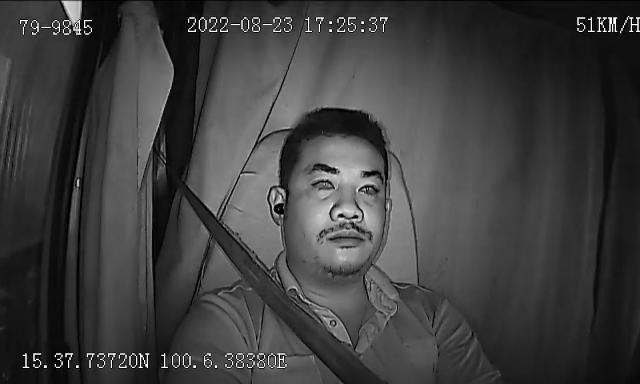SafeDriving: (352, 174, 387, 203), (307, 168, 340, 196)
Seatbelt: (178, 176, 386, 384)
